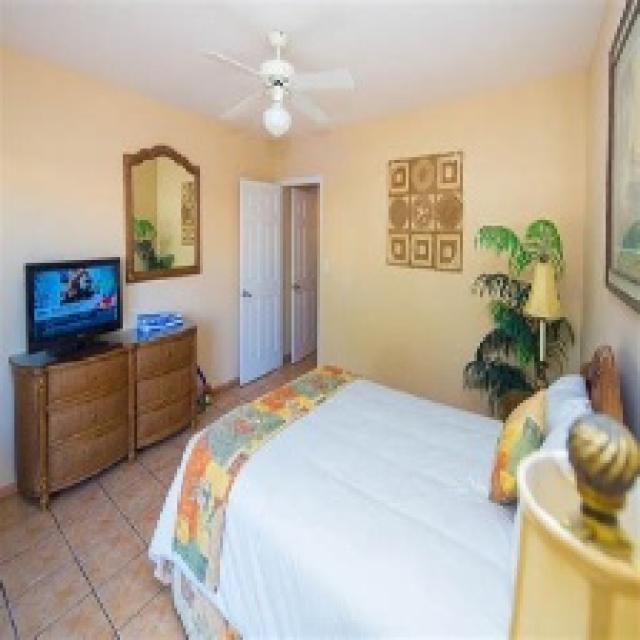Bed: (145, 343, 626, 637)
